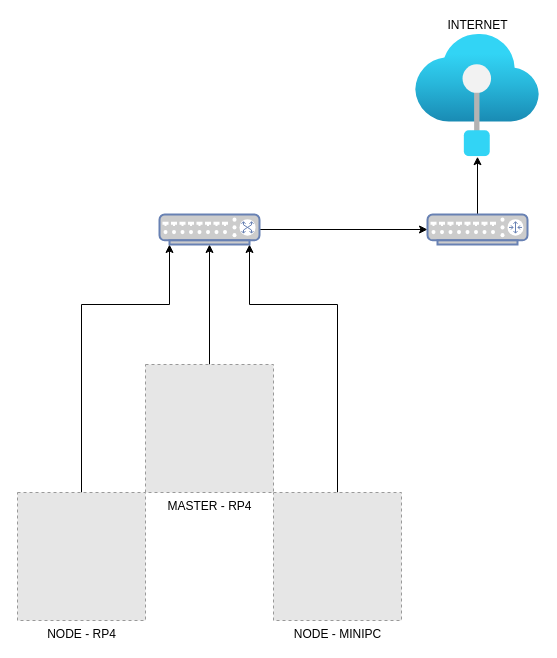
This 557x658 diagram has some shape labels left out. Grey dashed boxes stand in for pictures. Each missing label, with the centre of its shape:
"router - Huawei" belongs at point (477, 229).
"switch - TP-Link" belongs at point (209, 229).
